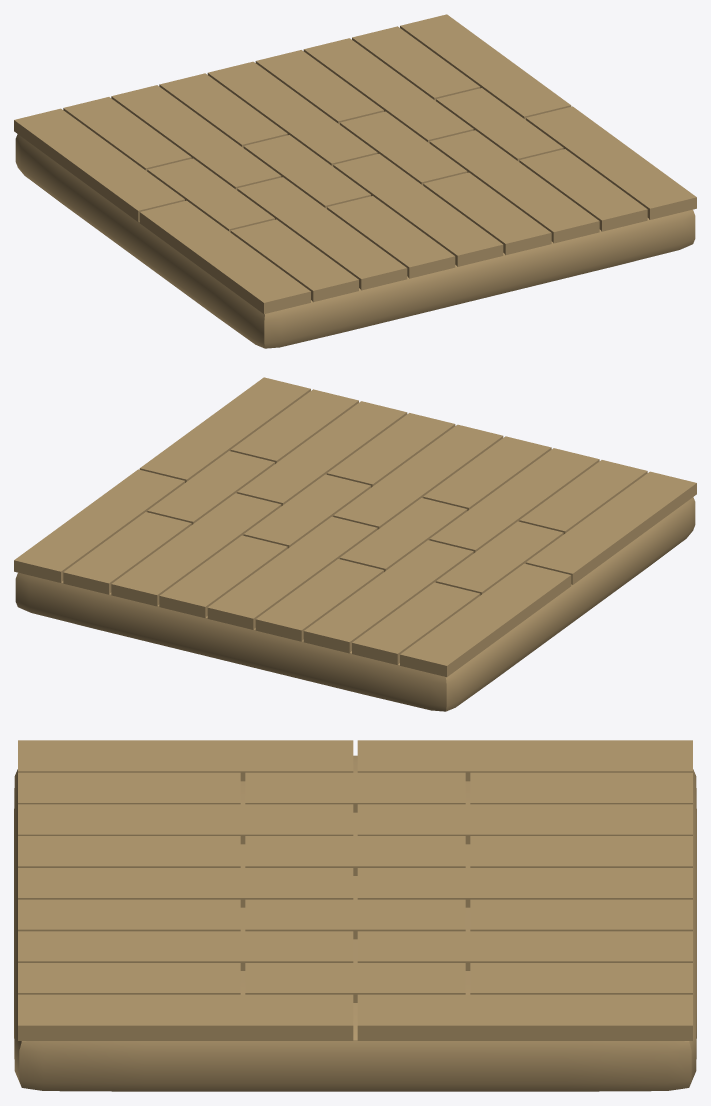
File: floor.glb
3 views of the same model, one above another, from view 1: azimuth 30°, elevation 25°; view 2: azimuth 150°, elevation 25°; view 3: azimuth 270°, elevation 25° (orthographic). The views are drawn at different scales.
Parts seen in each view (by area): view 1: Floor; view 2: Floor; view 3: Floor.
Boxes of the visible parts, x1,y1,x2,y2 form: Floor: [14, 14, 696, 348]; Floor: [14, 377, 696, 711]; Floor: [14, 740, 696, 1091].
Size of the model in its own units: 6.84 by 0.7927 by 6.84.
Materials: 1 (1 with a texture image).
